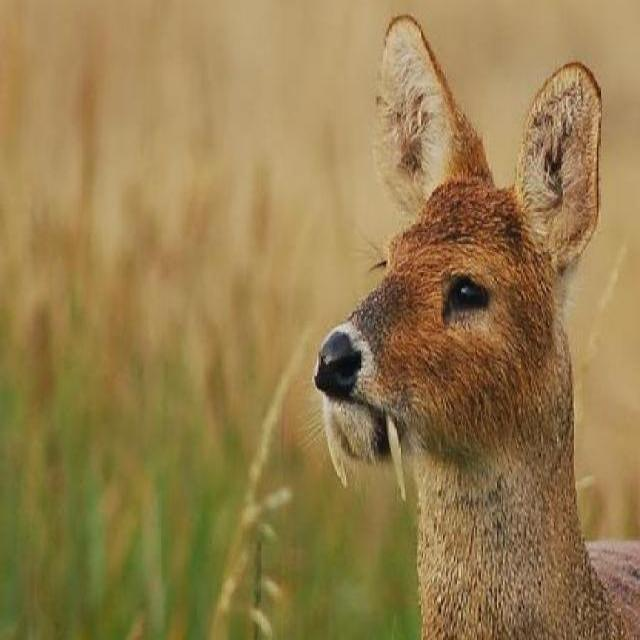deer: (304, 9, 640, 639)
